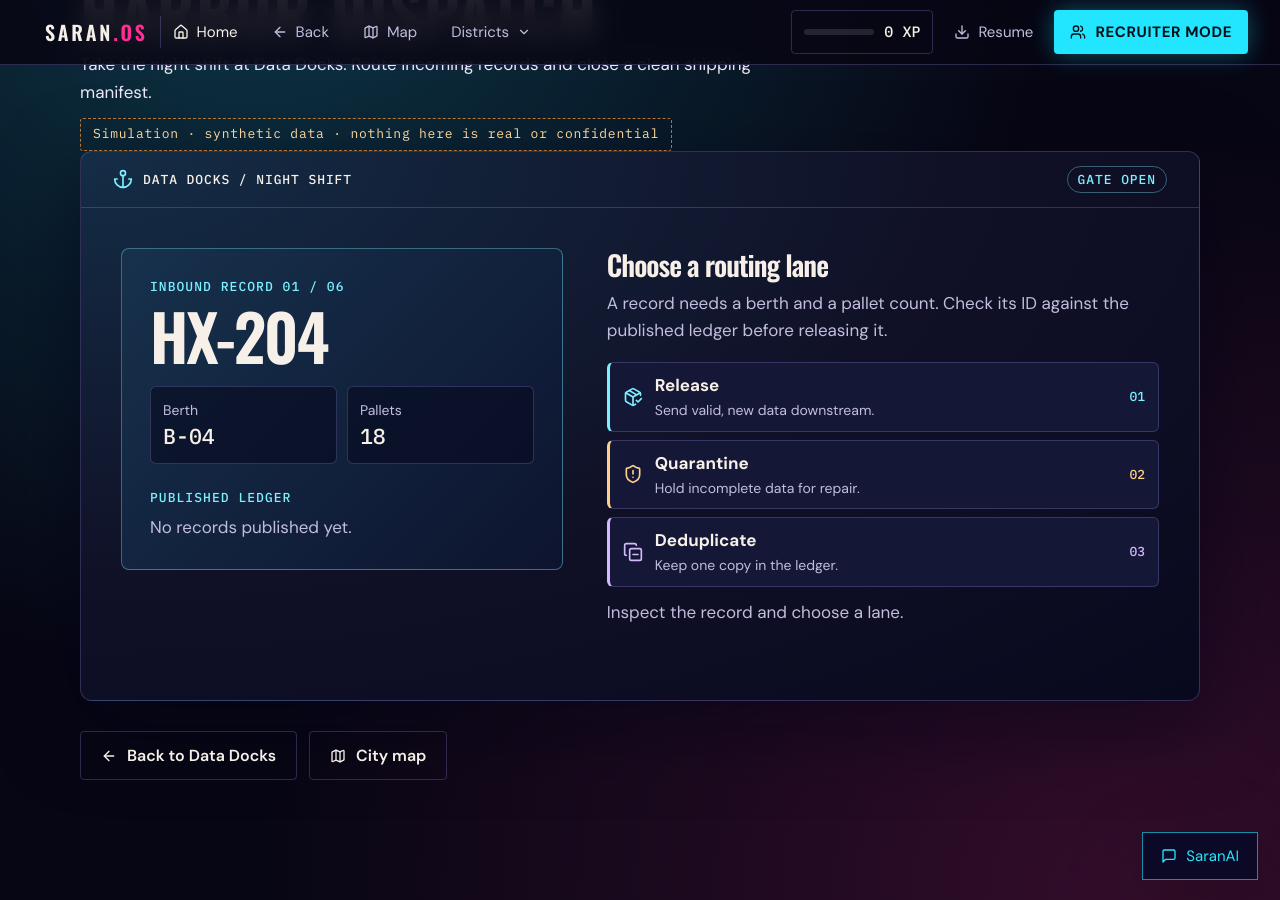
Test: Harbor Dispatch in Saran Universe › returns to the map from a direct link and can start the featured mission again
The width and height of the screenshot is (1280, 900).
(page scrolled)
Expected: the heading "HX-204" is shown, [150, 288, 327, 382]
Click the button "City map" at x=378, y=756, box [309, 731, 448, 780]
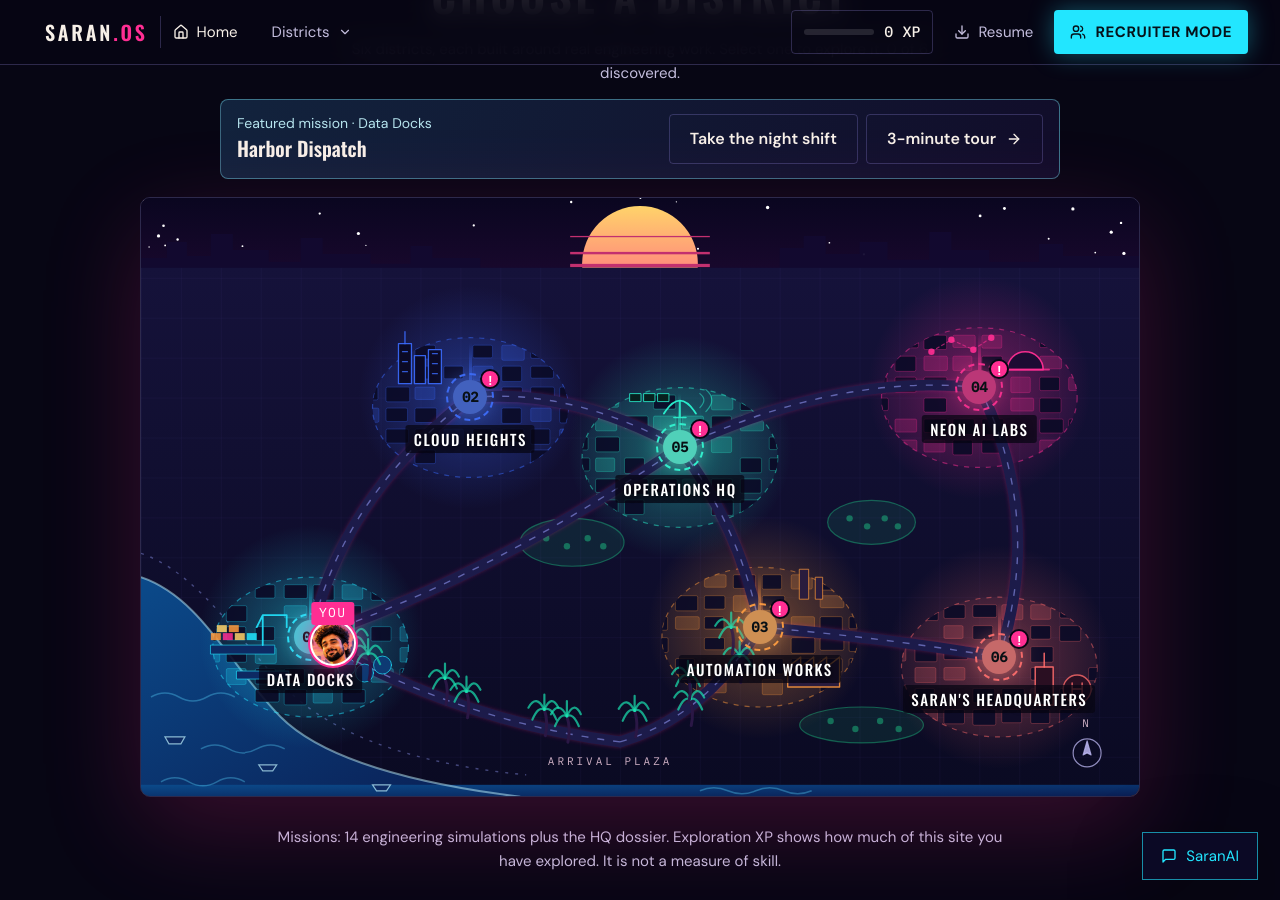
Click the button "Take the night shift" at x=763, y=139, box [669, 114, 858, 164]
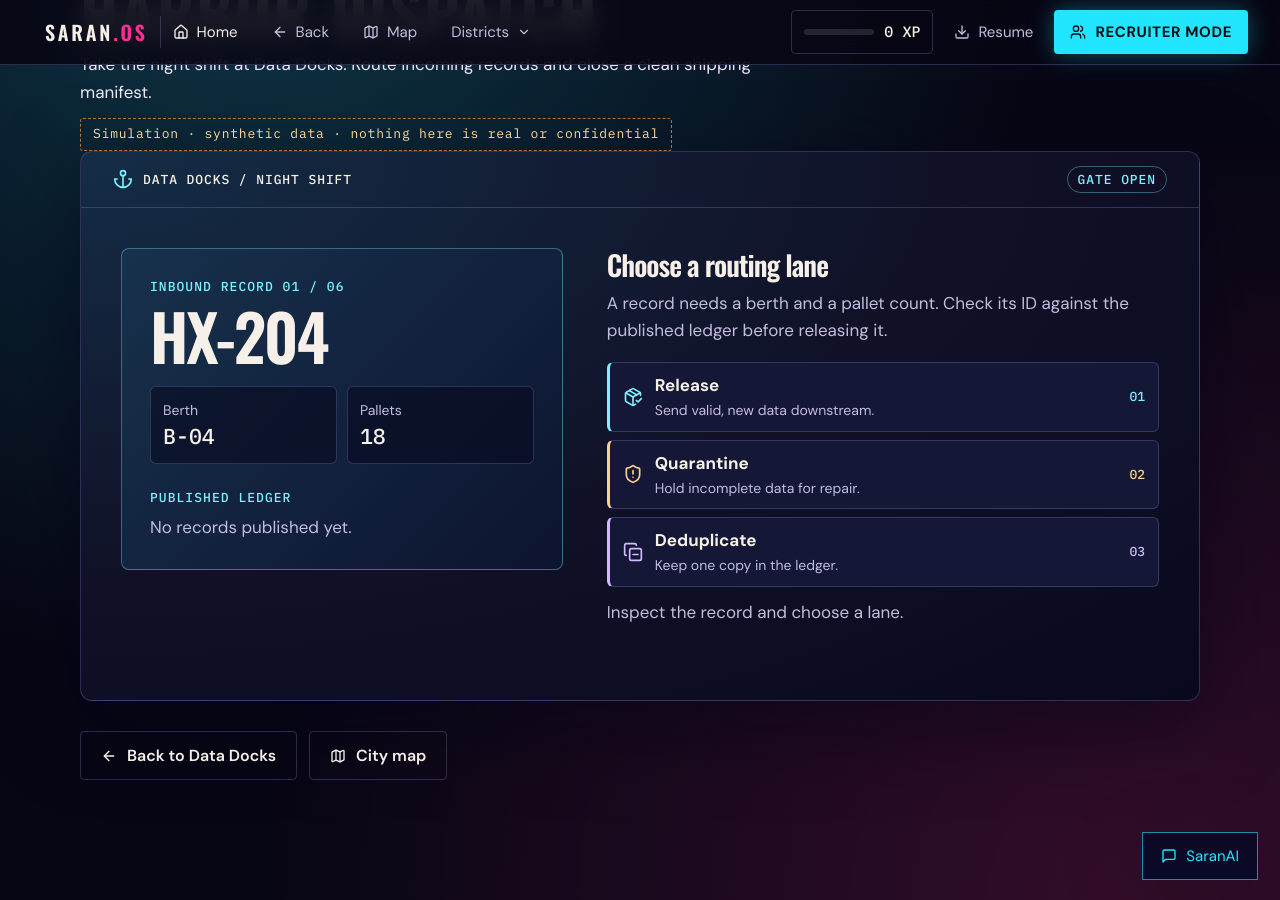
Result: the heading "HX-204" is shown at [150, 288, 327, 382]
